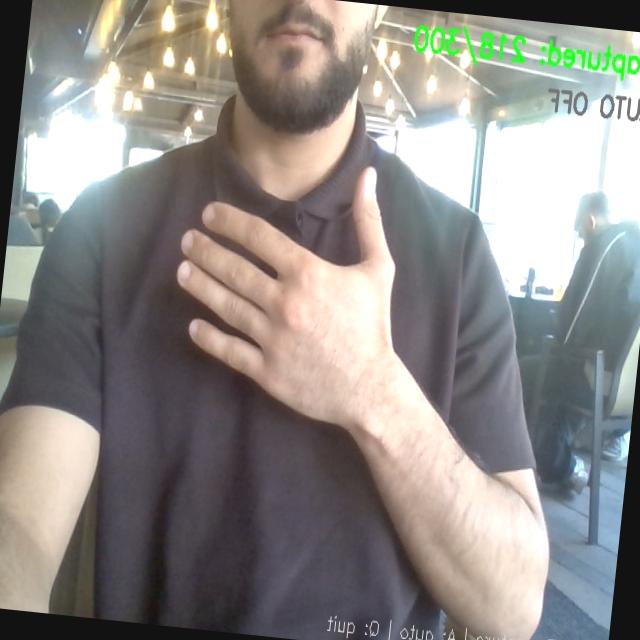Hand: (177, 168, 394, 427)
